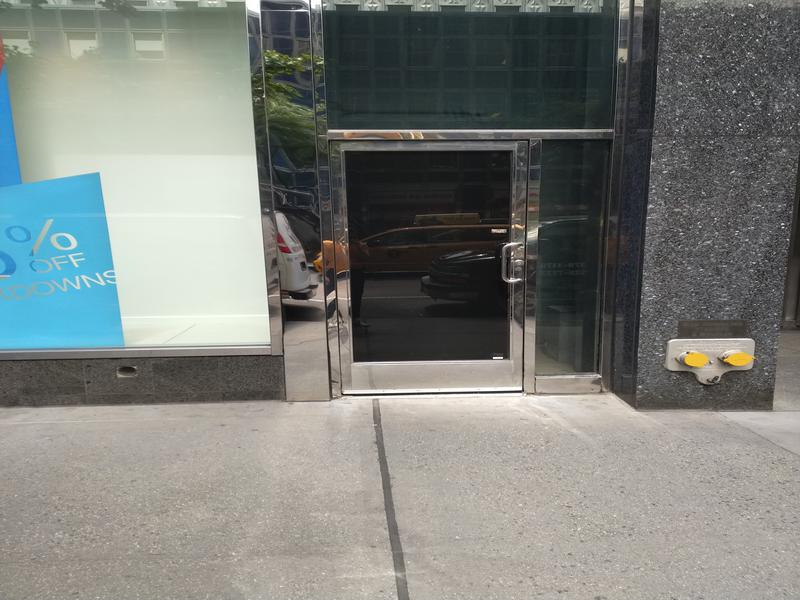door: (323, 129, 539, 399)
